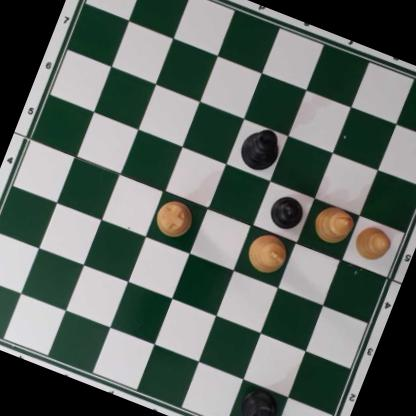black-king: (234, 121, 286, 175)
black-pawn: (266, 189, 308, 234)
black-rook: (233, 383, 287, 416)
white-bishop: (310, 201, 358, 249)
white-king: (242, 228, 292, 279)
white-pawn: (350, 222, 395, 265)
white-rook: (152, 195, 197, 242)
